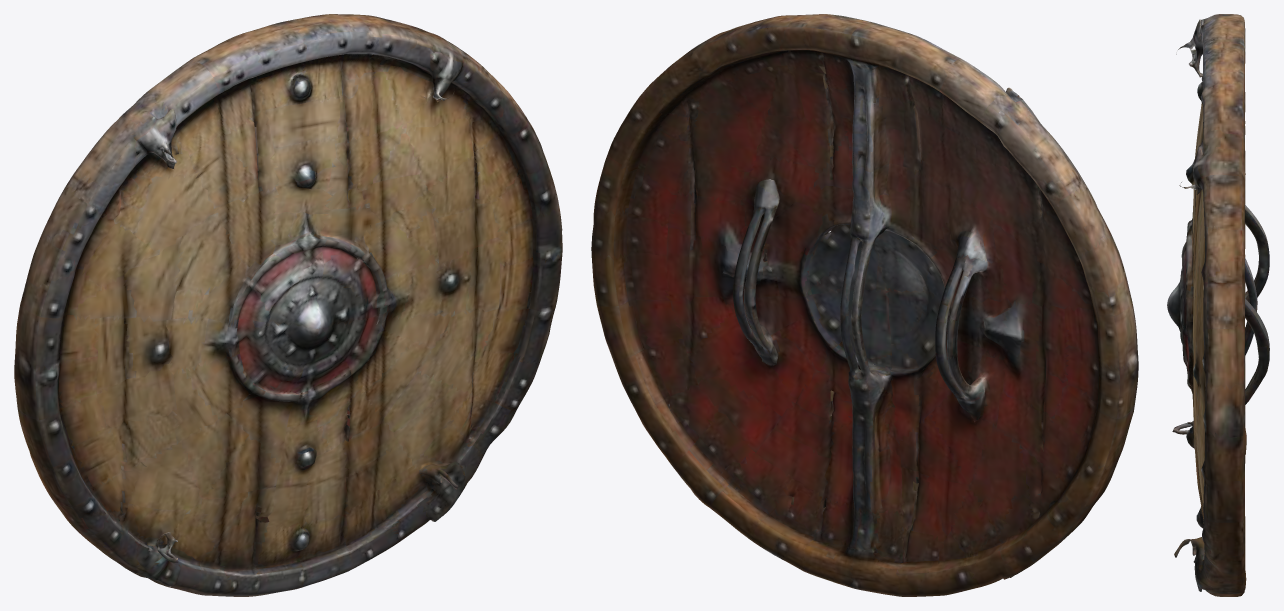
Rendered from PF_Shield4.glb.
3 views of the same model, side by side, from view 1: azimuth 30°, elevation 25°; view 2: azimuth 150°, elevation 25°; view 3: azimuth 270°, elevation 25° (orthographic). The views are drawn at different scales.
Bounding box in the file's own units: 2 × 2 × 0.3526.
Materials: 1 (1 with a texture image).
